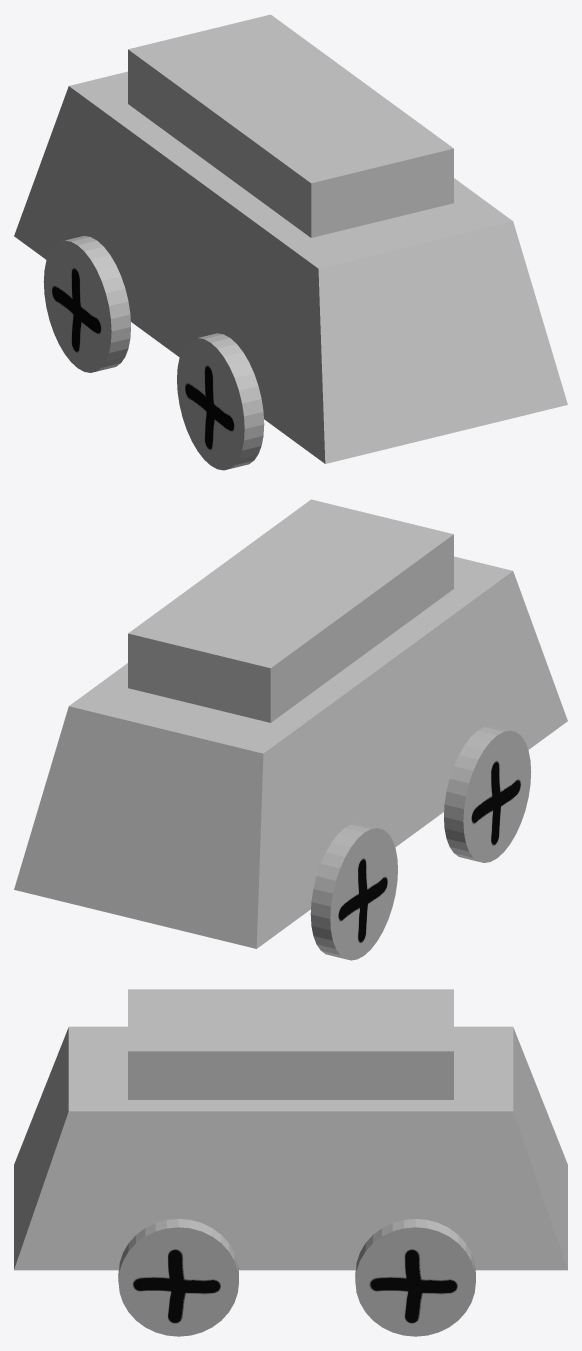
The model's file is TESTCar.fbx.
3 renders of one model, top to bottom at view 1: azimuth 30°, elevation 25°; view 2: azimuth 150°, elevation 25°; view 3: azimuth 270°, elevation 25°, orthographic. The views are drawn at different scales.
Parts seen in each view (by area): view 1: Body, FR, RR; view 2: Body, FR, RR; view 3: Body, RL, FL.
Part boxes in pixels (x1,y1,x2,y2): Body: (14, 14, 567, 463); FR: (177, 333, 264, 470); RR: (43, 236, 130, 372); Body: (14, 499, 567, 948); FR: (444, 726, 531, 862); RR: (310, 823, 397, 960); Body: (14, 989, 567, 1270); RL: (355, 1219, 475, 1336); FL: (118, 1219, 238, 1336).
Bounding box in the file's own units: 236 × 225 × 444.
